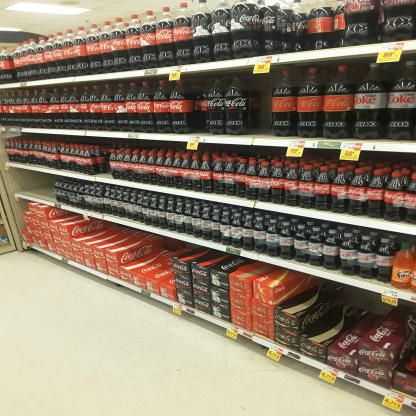Void: (13, 169, 60, 202), (249, 78, 272, 134)
